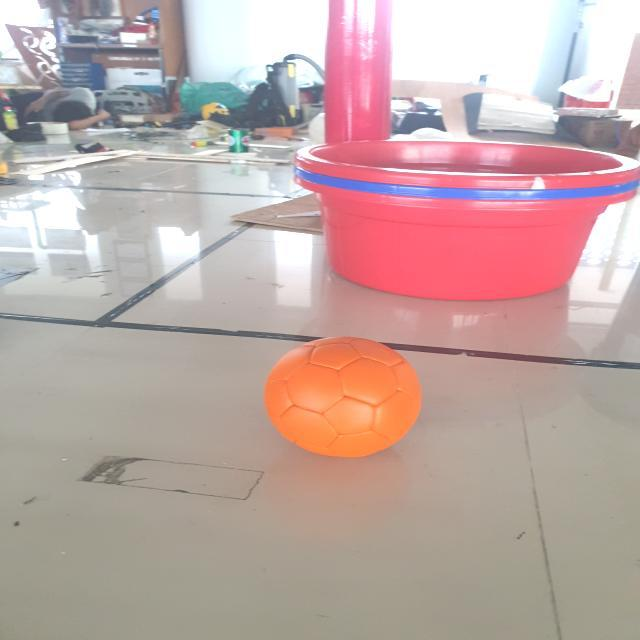bola: (255, 331, 428, 462)
